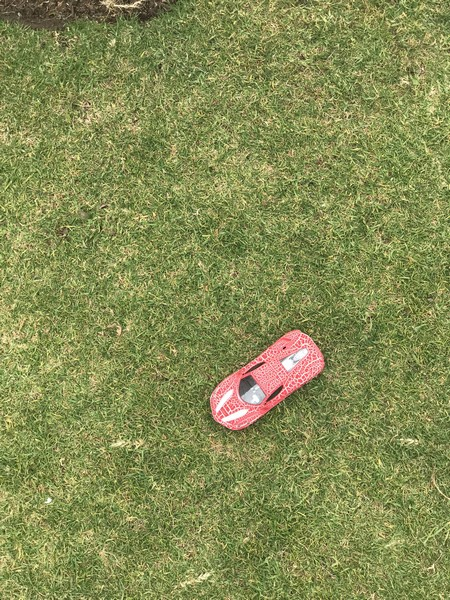RC: (207, 329, 326, 431)
